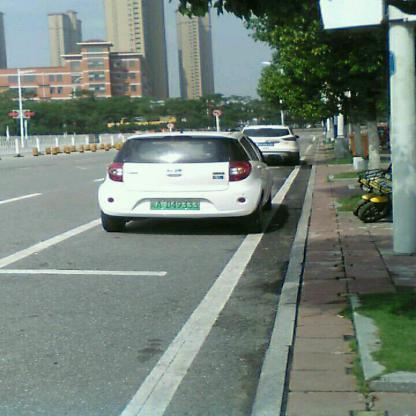lp: (150, 198, 200, 209)
